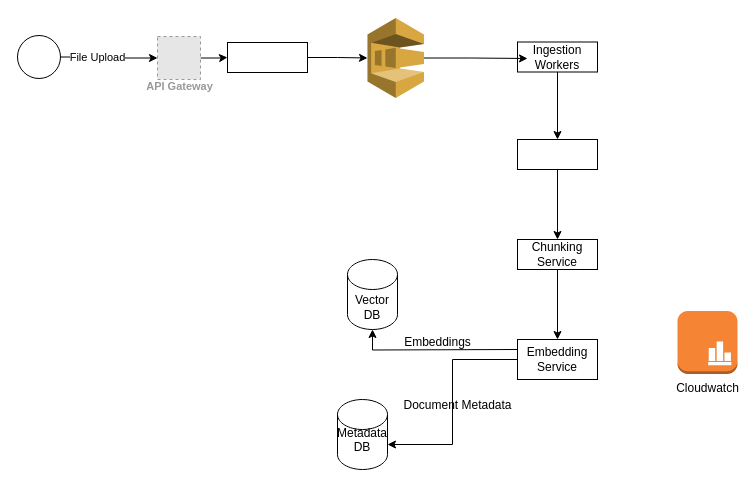
Image size: 756x500. Some labels were removed from this diagram. Grey dashed boxes stand in for pictures. Each missing label, with the box of its shape:
Client: (16, 34, 60, 78)
Document Loader: (516, 138, 598, 170)
Ingestion API Service: (226, 42, 308, 72)
Message Queue: (366, 17, 424, 98)
